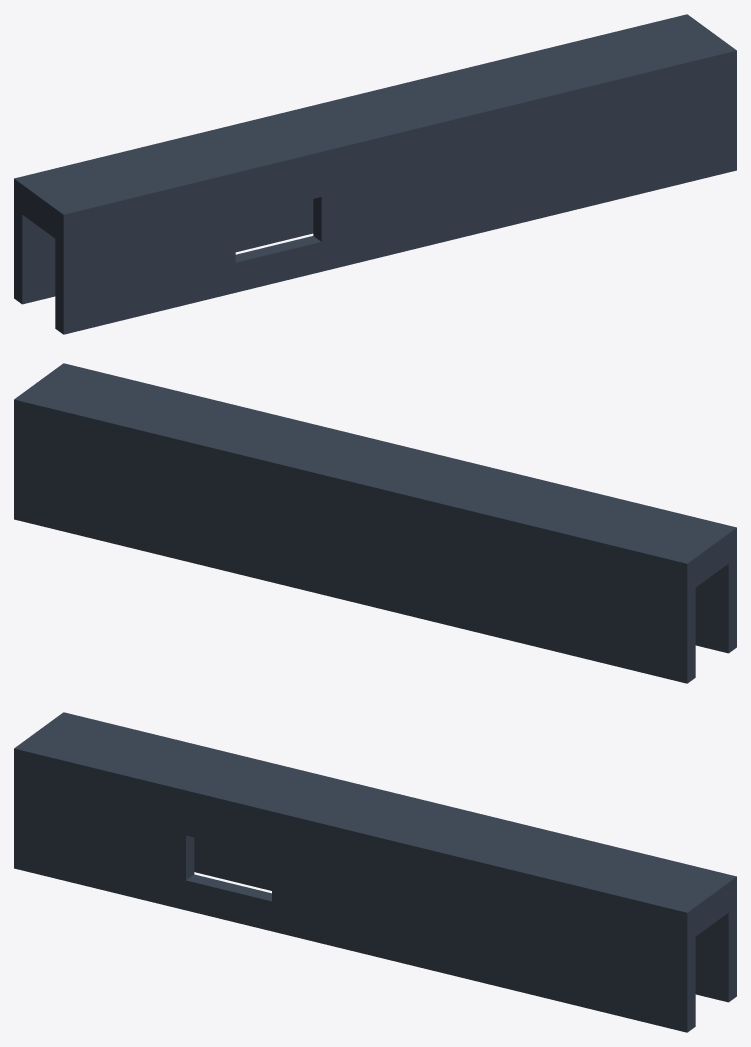
File: pistol_slide.glb
The picture shows the model from 3 angles, top to bottom: view 1: azimuth 30°, elevation 25°; view 2: azimuth 150°, elevation 25°; view 3: azimuth 330°, elevation 25°; orthographic projection.
Parts seen in each view (by area): view 1: pistol_slide:slide; view 2: pistol_slide:slide; view 3: pistol_slide:slide.
Part boxes in pixels (<box>): pistol_slide:slide: <box>14,14,736,334</box>; pistol_slide:slide: <box>14,363,736,683</box>; pistol_slide:slide: <box>14,712,736,1032</box>.
Bounding box in the file's own units: 0.188 × 0.032 × 0.024.
